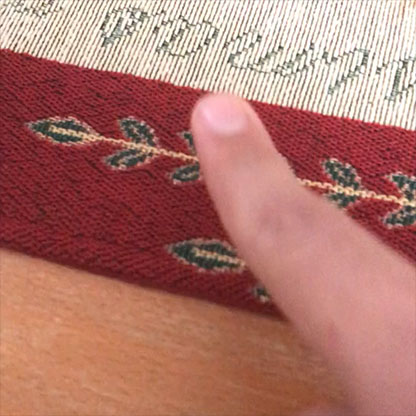fingertip: (176, 83, 294, 167)
